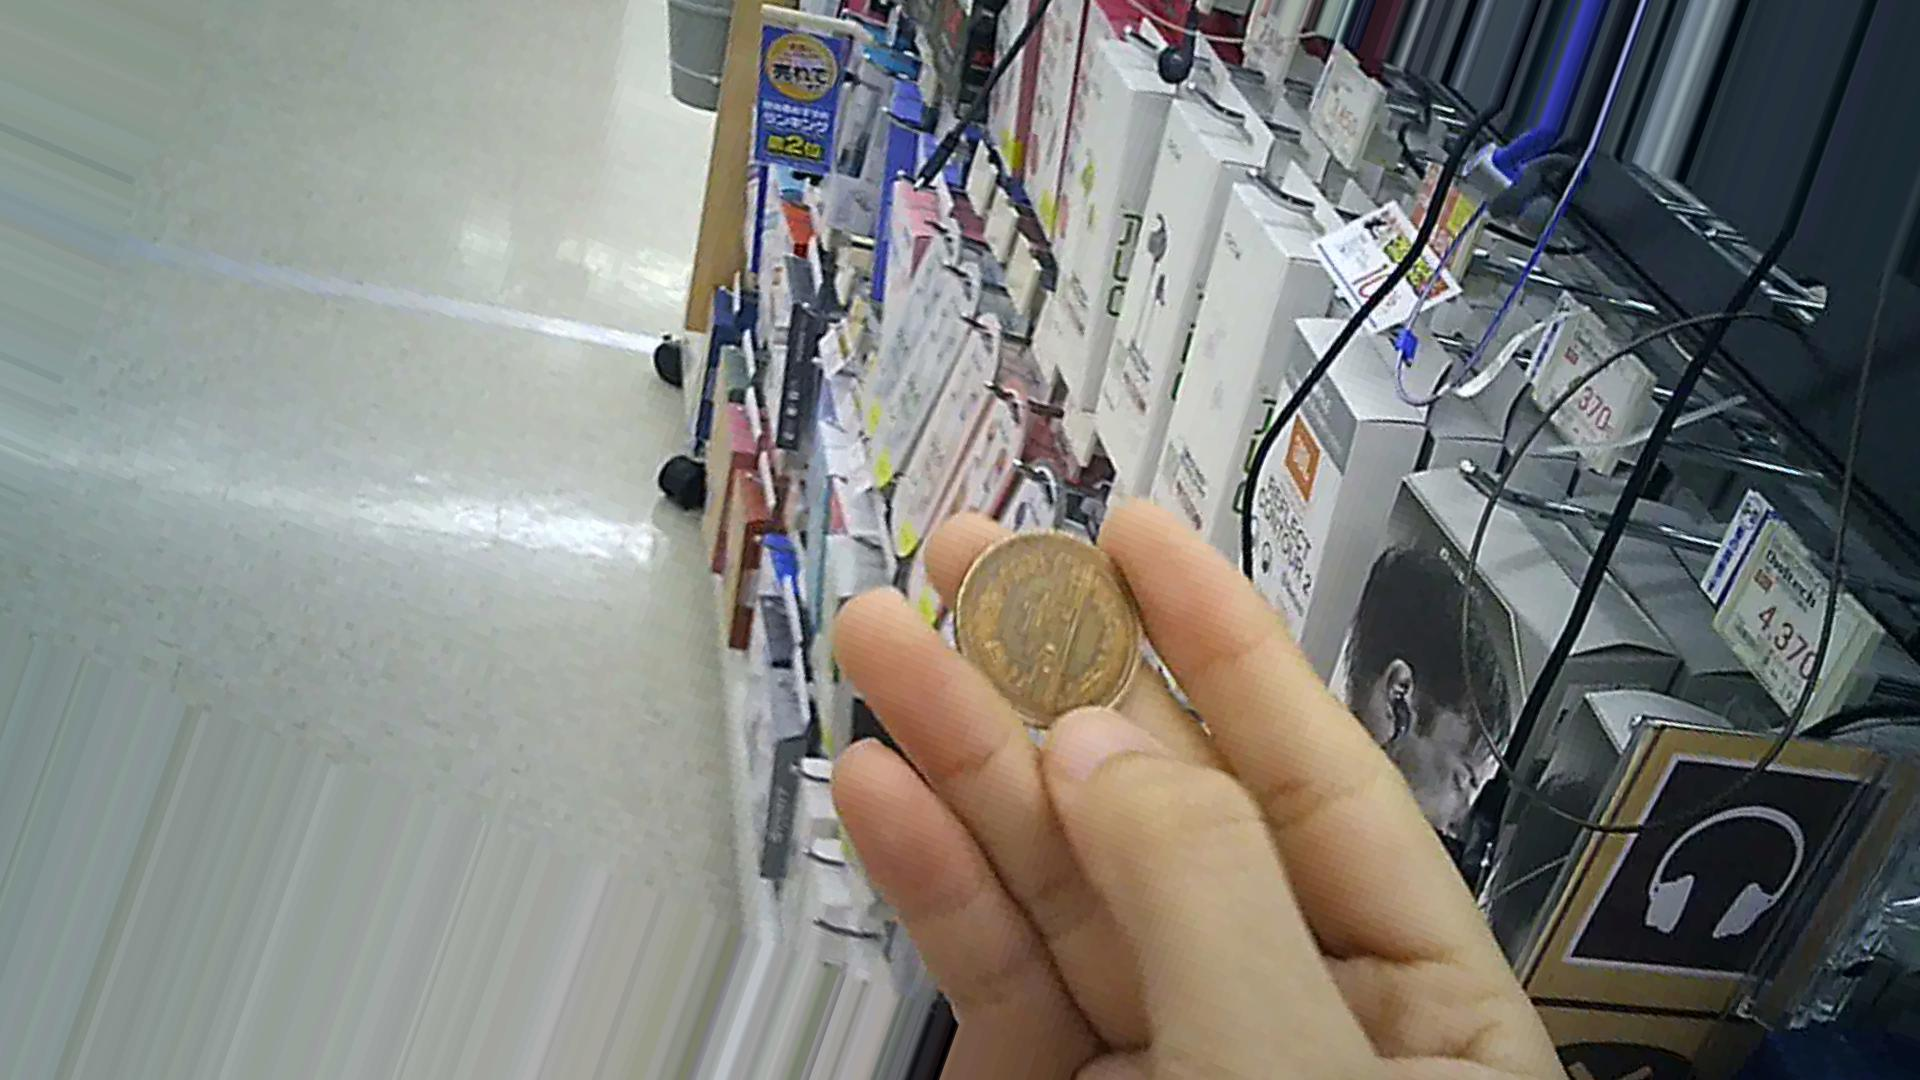10 Yen: (942, 509, 1164, 758)
